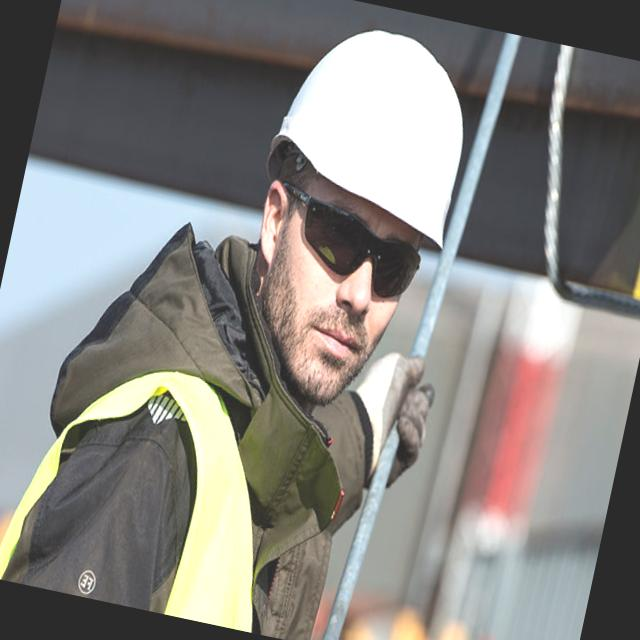goggles: (265, 178, 439, 312)
helmet: (253, 8, 488, 256)
vest: (0, 327, 311, 634)
